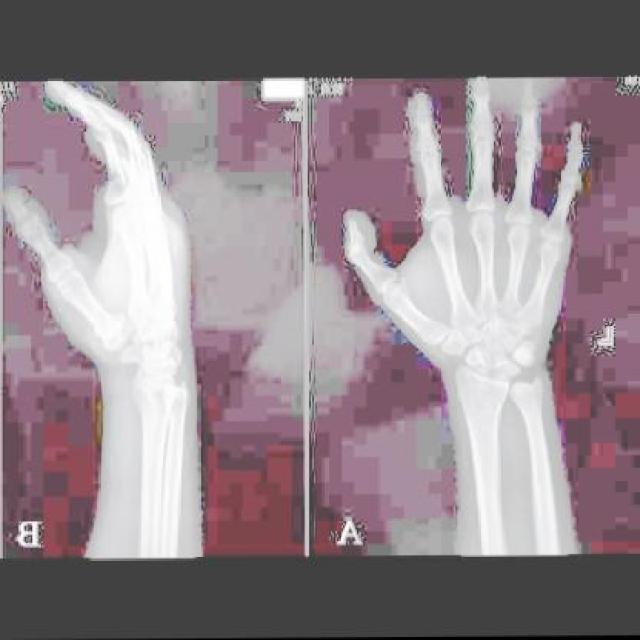Fracture: (155, 314, 180, 345), (512, 317, 534, 334)
